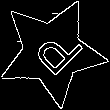P_SW: (21, 21, 83, 83)
